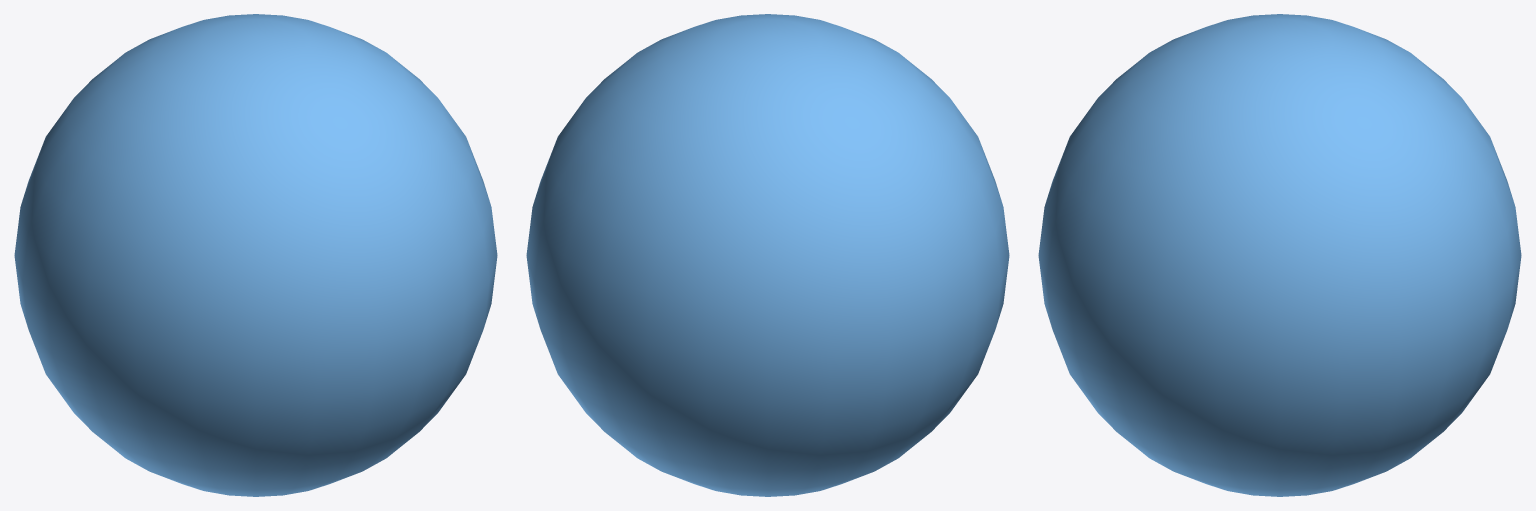
The model's file is mat-pbr-rough.gltf.
3 views of the same model, side by side, from view 1: azimuth 30°, elevation 25°; view 2: azimuth 150°, elevation 25°; view 3: azimuth 270°, elevation 25° (orthographic).
Bounding box in the file's own units: 2 × 2 × 2.
